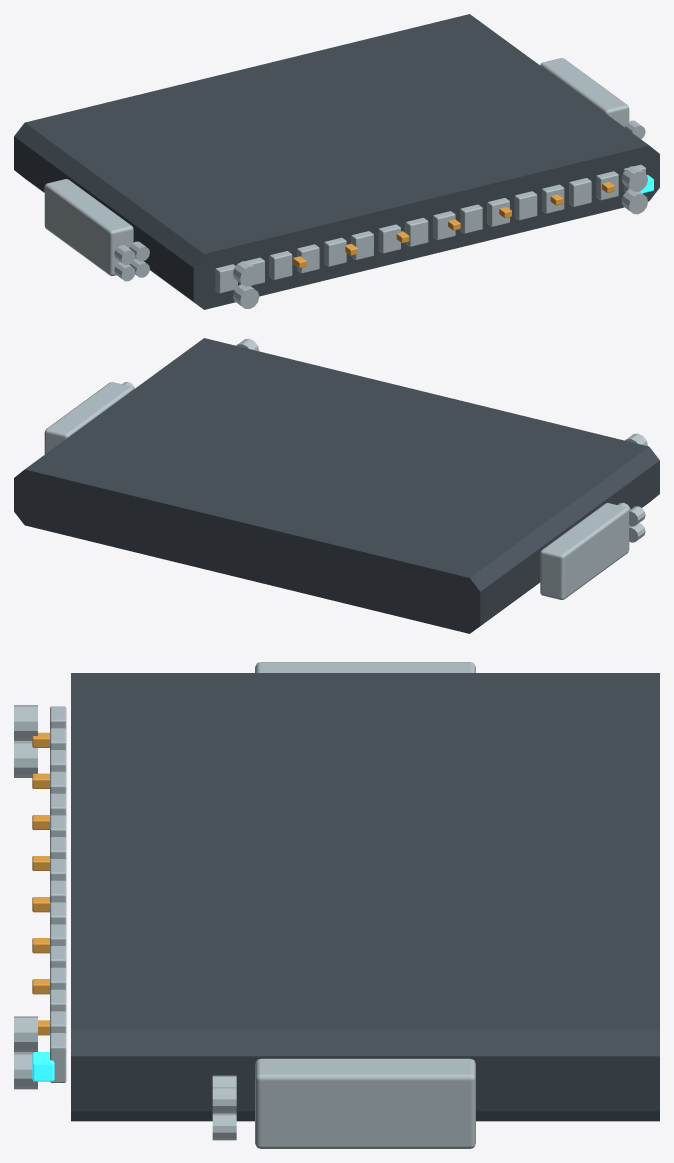
File: network-switch.glb
The picture shows the model from 3 angles, top to bottom: view 1: azimuth 30°, elevation 25°; view 2: azimuth 150°, elevation 25°; view 3: azimuth 270°, elevation 25°; orthographic projection. The views are drawn at different scales.
Parts seen in each view (by area): view 1: data-centre-infiltration-kit-network-switch; view 2: data-centre-infiltration-kit-network-switch; view 3: data-centre-infiltration-kit-network-switch.
Part boxes in pixels (x1,y1,x2,y2): data-centre-infiltration-kit-network-switch: (14, 14, 659, 309); data-centre-infiltration-kit-network-switch: (14, 338, 659, 633); data-centre-infiltration-kit-network-switch: (14, 662, 659, 1148).
Bounding box in the file's own units: 0.5394 × 0.055 × 0.351.
